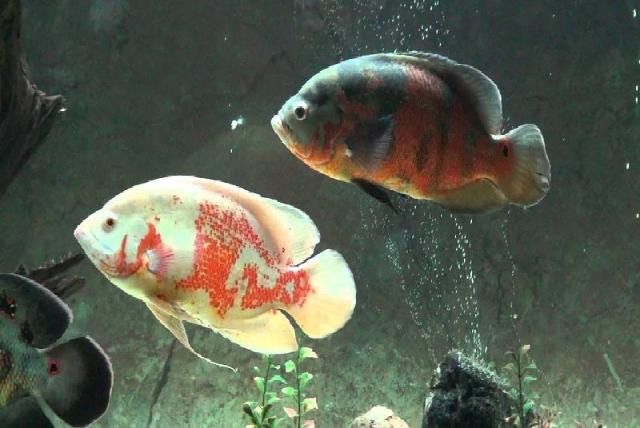Mulut: (265, 104, 299, 148), (67, 217, 96, 254)
Sirip Anal: (430, 176, 514, 220), (230, 312, 302, 362)
Sirip Dada: (140, 231, 208, 299), (342, 105, 402, 177)
Sirip Ekor: (292, 239, 370, 349), (498, 115, 562, 220)
Sirip Perut: (134, 291, 240, 377), (342, 164, 412, 210)
Sirip Punggung: (188, 169, 318, 267), (392, 38, 506, 144)
